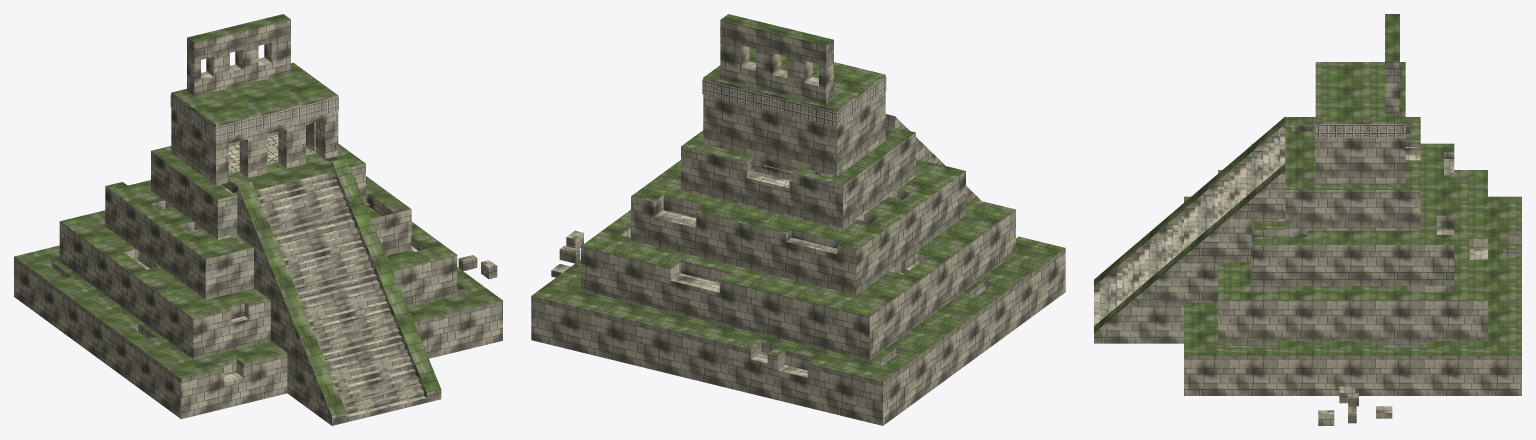
Rendered from ruin-temple-a.ruins-v3.lod0.glb.
The picture shows the model from 3 angles, left to right: view 1: azimuth 30°, elevation 25°; view 2: azimuth 150°, elevation 25°; view 3: azimuth 270°, elevation 25°; orthographic projection. The views are drawn at different scales.
Parts seen in each view (by area): view 1: ruin-temple-a; view 2: ruin-temple-a; view 3: ruin-temple-a.
Boxes of the visible parts, box(x1,y1,x2,y2) form: ruin-temple-a: box(14, 14, 502, 425); ruin-temple-a: box(531, 14, 1065, 425); ruin-temple-a: box(1094, 14, 1521, 425).
Size of the model in its own units: 23.78 by 16.4 by 22.8.
Materials: 4 (4 with a texture image).
